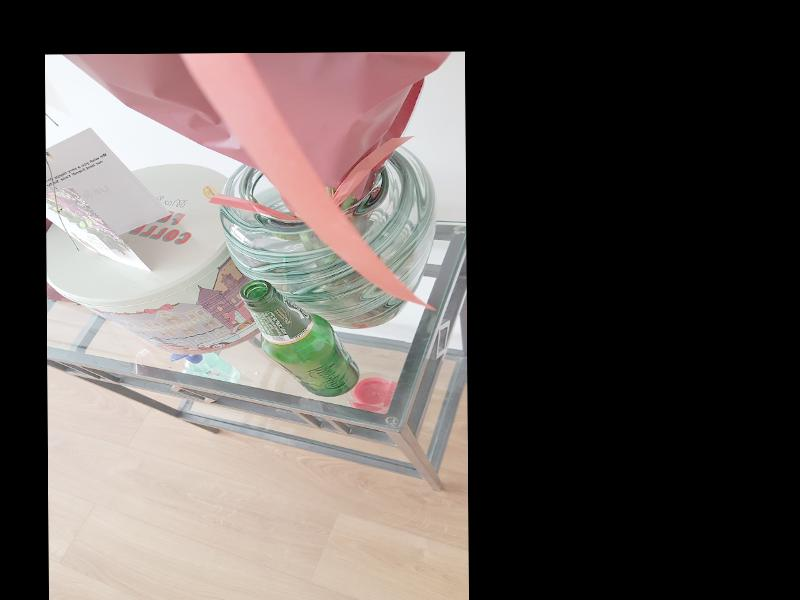Beer: (240, 279, 361, 397)
